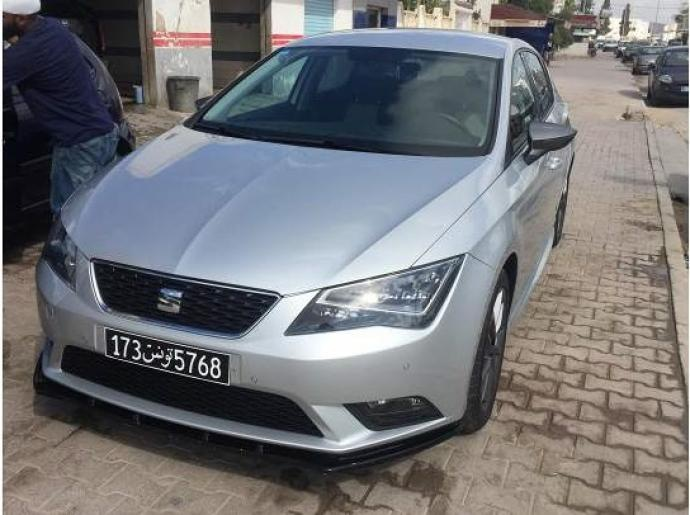LP: (101, 325, 235, 390)
